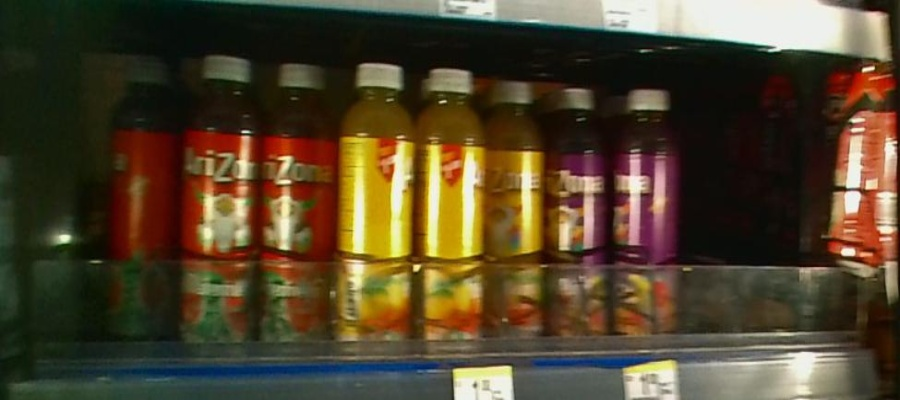bottle: (260, 53, 338, 356), (181, 54, 258, 356), (102, 52, 179, 352), (341, 58, 417, 356), (419, 57, 492, 356), (613, 91, 681, 353), (547, 79, 610, 347), (494, 68, 546, 356)
